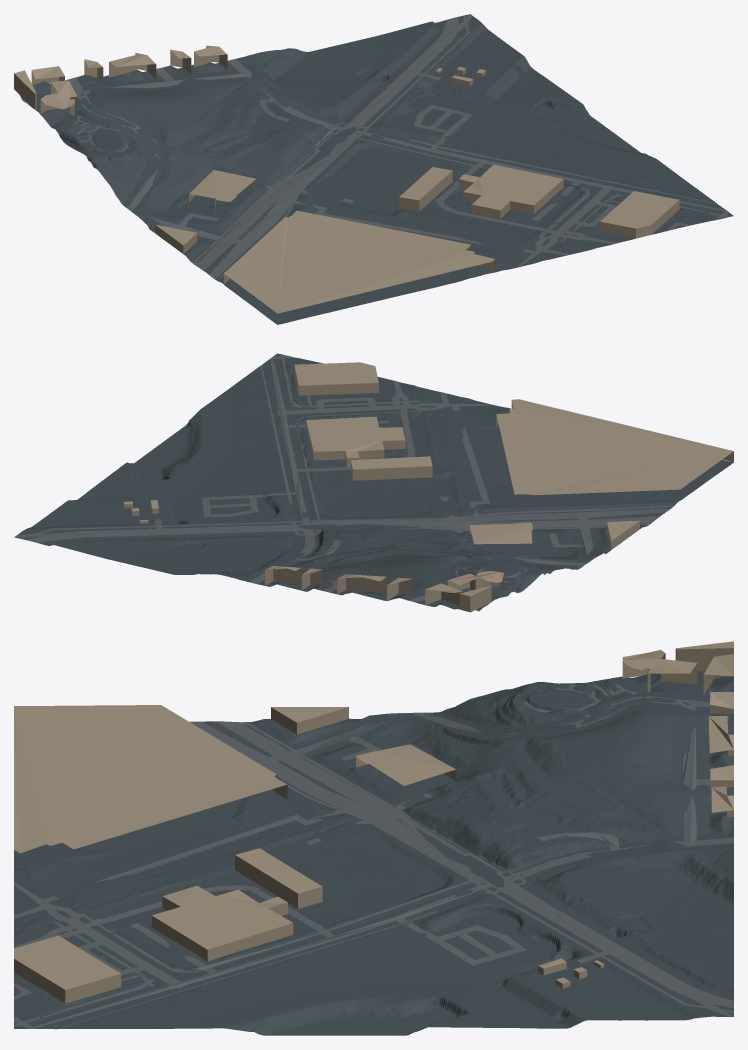
The model's file is epsg26910-1444-10877.lod0.glb.
3 renders of one model, top to bottom at view 1: azimuth 30°, elevation 25°; view 2: azimuth 150°, elevation 25°; view 3: azimuth 270°, elevation 25°, orthographic. The views are drawn at different scales.
Parts seen in each view (by area): view 1: epsg26910-1444-10877-lod0; view 2: epsg26910-1444-10877-lod0; view 3: epsg26910-1444-10877-lod0.
Part boxes in pixels (<box>): epsg26910-1444-10877-lod0: <box>14,14,733,324</box>; epsg26910-1444-10877-lod0: <box>14,353,733,612</box>; epsg26910-1444-10877-lod0: <box>14,641,733,1035</box>.
Size of the model in its own units: 384 by 53.3 by 384.
